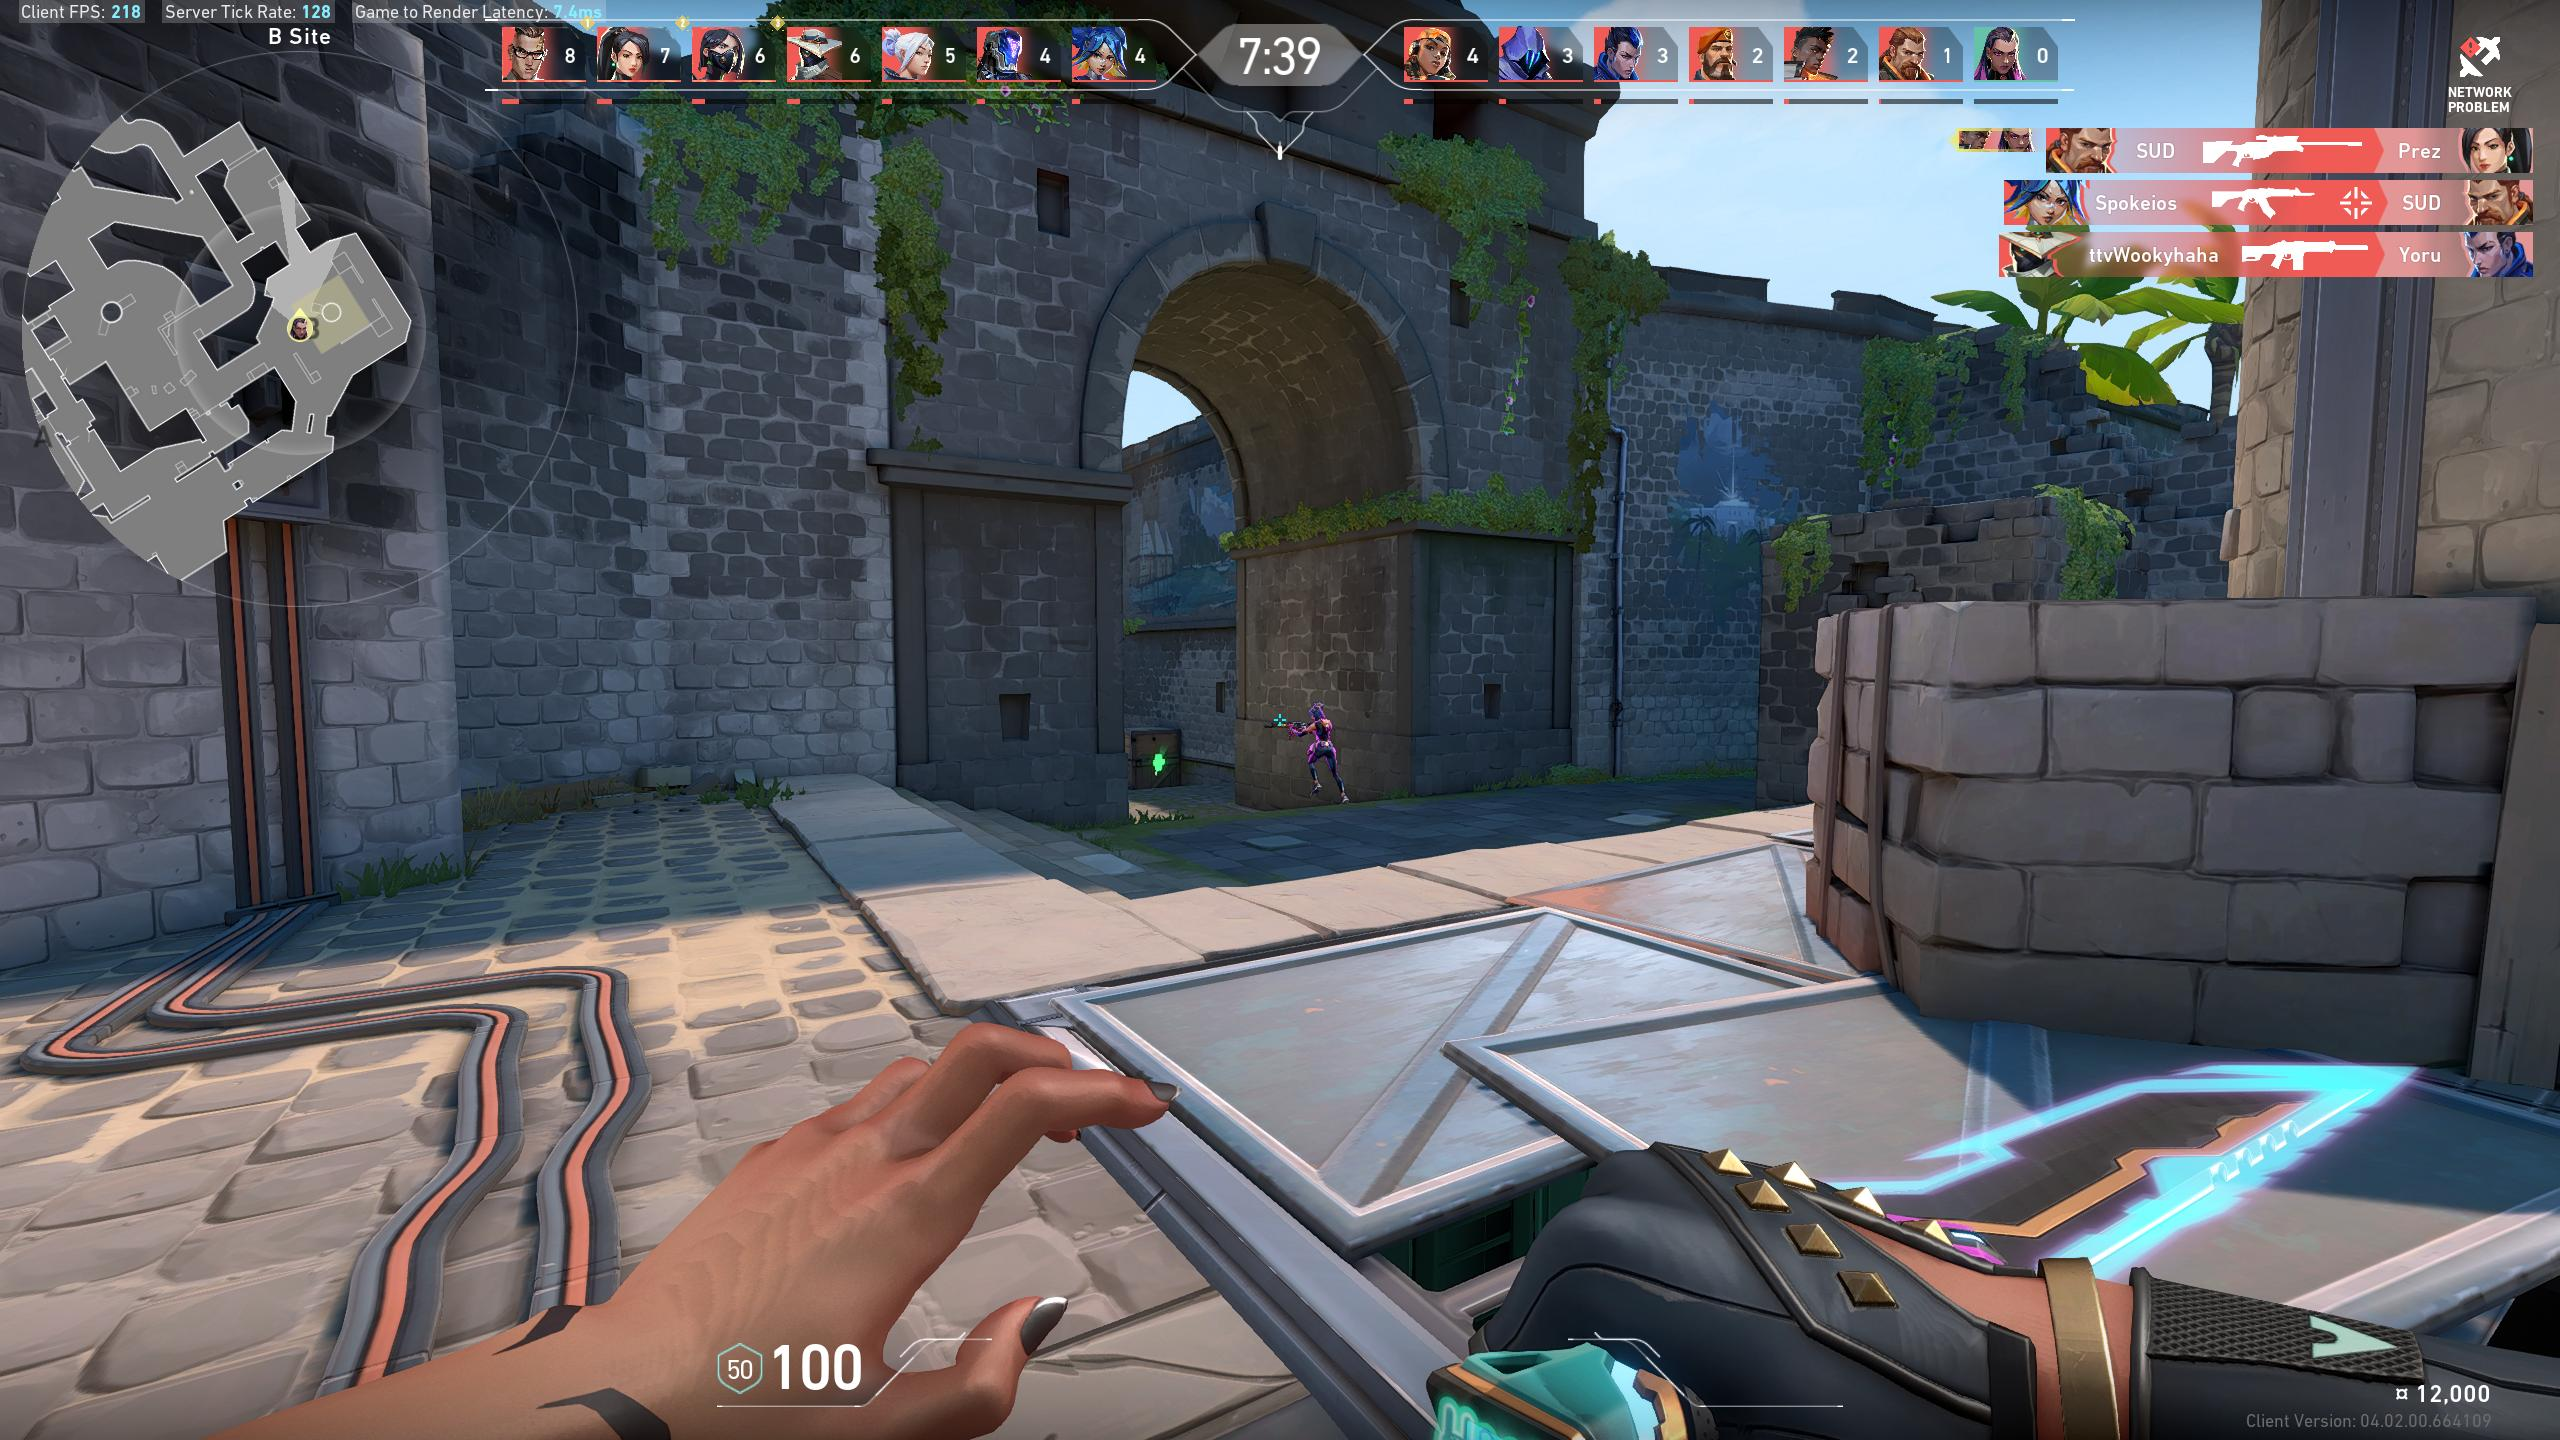enemyBody: (1315, 723, 1327, 745)
enemyHead: (1313, 710, 1322, 721)
